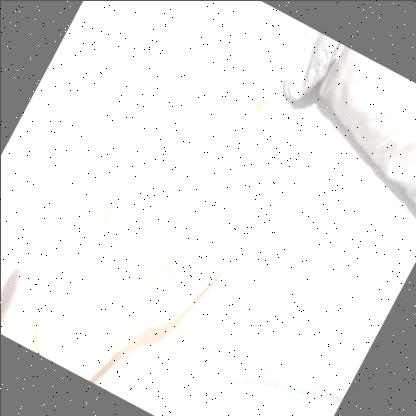Others: (40, 63, 284, 376)
